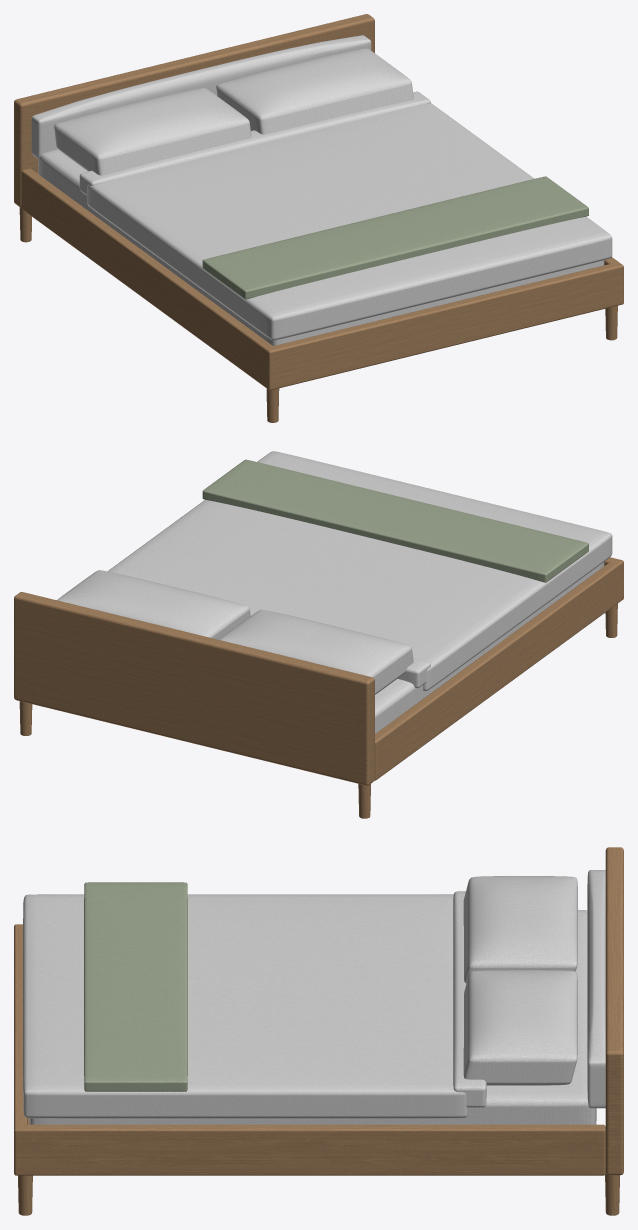
3 renders of one model, top to bottom at view 1: azimuth 30°, elevation 25°; view 2: azimuth 150°, elevation 25°; view 3: azimuth 270°, elevation 25°, orthographic. The views are drawn at different scales.
Parts seen in each view (by area): view 1: Duvet, Folded throw, Foot rail, Left rail, Pillow 1, Pillow 2, Headboard frame, Upholstered headboard, Mattress, Turned-down sheet; view 2: Duvet, Headboard frame, Folded throw, Left rail, Pillow 1, Pillow 2, Mattress, Turned-down sheet; view 3: Duvet, Right rail, Folded throw, Pillow 2, Pillow 1, Mattress, Headboard frame, Upholstered headboard, Turned-down sheet, Foot rail, Leg RB, Leg RF.
Boxes of the visible parts, x1,y1,x2,y2 form: Duvet: [87, 103, 612, 340]; Folded throw: [202, 176, 588, 299]; Foot rail: [264, 262, 623, 390]; Left rail: [21, 168, 272, 386]; Pillow 1: [54, 88, 251, 175]; Pillow 2: [216, 48, 413, 134]; Headboard frame: [14, 14, 374, 207]; Upholstered headboard: [31, 35, 371, 159]; Mattress: [38, 149, 604, 345]; Turned-down sheet: [79, 91, 430, 195]; Duvet: [107, 451, 612, 690]; Headboard frame: [14, 592, 374, 785]; Folded throw: [202, 459, 588, 582]; Left rail: [374, 561, 619, 780]; Pillow 1: [219, 609, 413, 694]; Pillow 2: [57, 570, 250, 639]; Mattress: [375, 562, 604, 733]; Turned-down sheet: [397, 658, 430, 688]; Duvet: [23, 894, 467, 1118]; Right rail: [25, 1124, 605, 1175]; Folded throw: [84, 882, 187, 1091]; Pillow 2: [463, 970, 577, 1085]; Pillow 1: [463, 876, 577, 983]; Mattress: [29, 910, 596, 1124]; Headboard frame: [605, 847, 623, 1175]; Upholstered headboard: [587, 870, 605, 1108]; Turned-down sheet: [453, 891, 486, 1107]; Foot rail: [14, 924, 27, 1175]; Leg RB: [605, 1172, 619, 1215]; Leg RF: [18, 1175, 32, 1215].
Size of the model in its own units: 1.6 by 0.6 by 2.
Materials: 4 (4 with a texture image).
